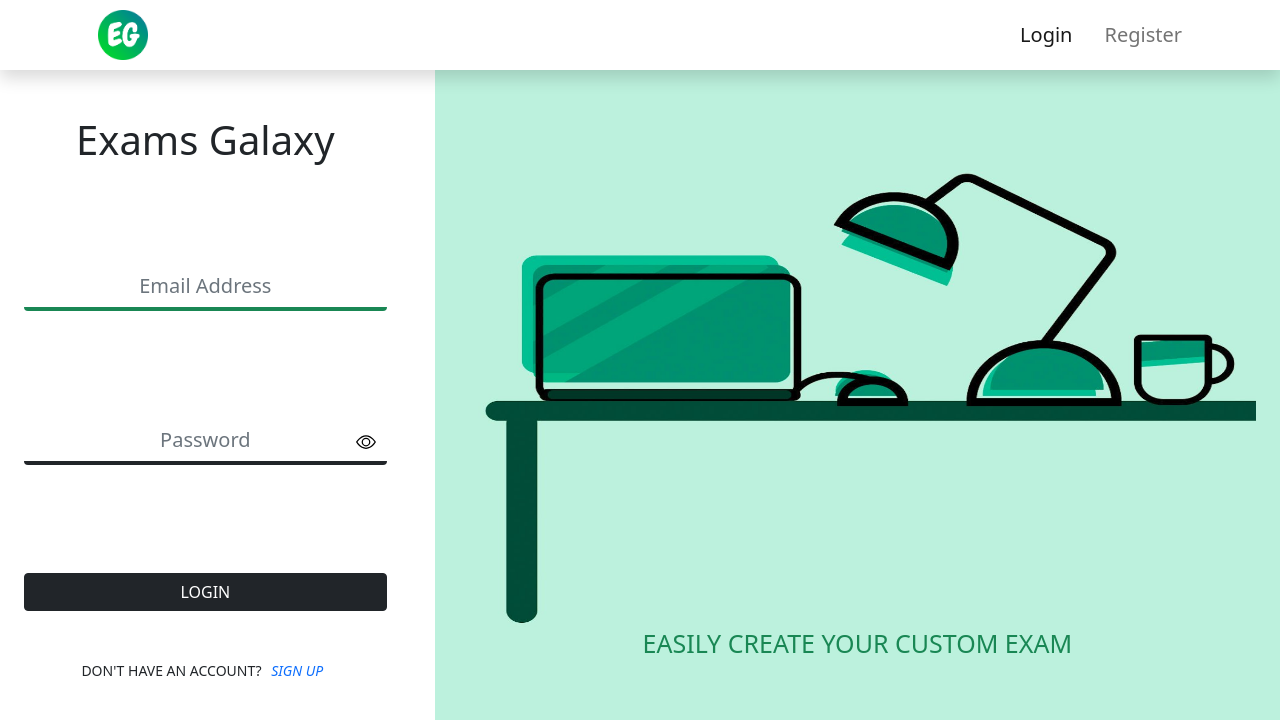
Test: authenticated user can click logout and logout from his account
Step 1. Click the link "Login" → (1046, 34), box 1020,21 -> 1072,48
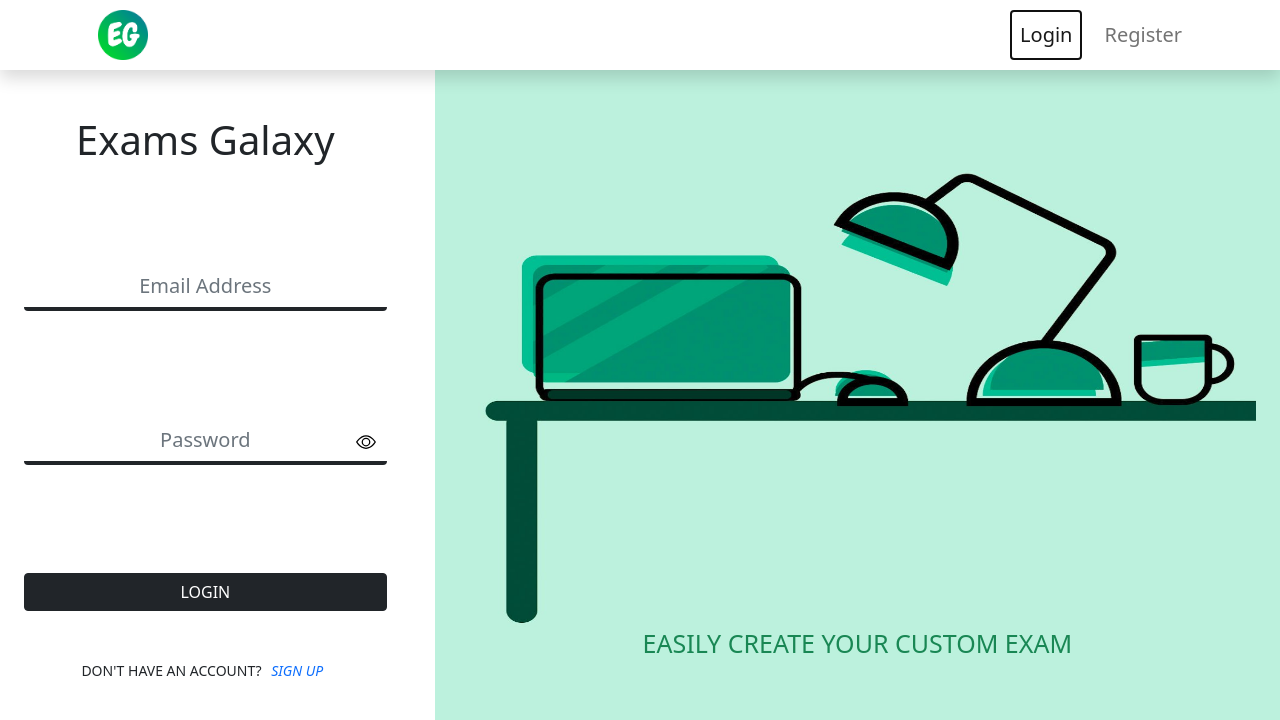
Step 2. Type "fkub@example.org" into the field labelled "Email Address" → (205, 288), box 24,265 -> 387,311
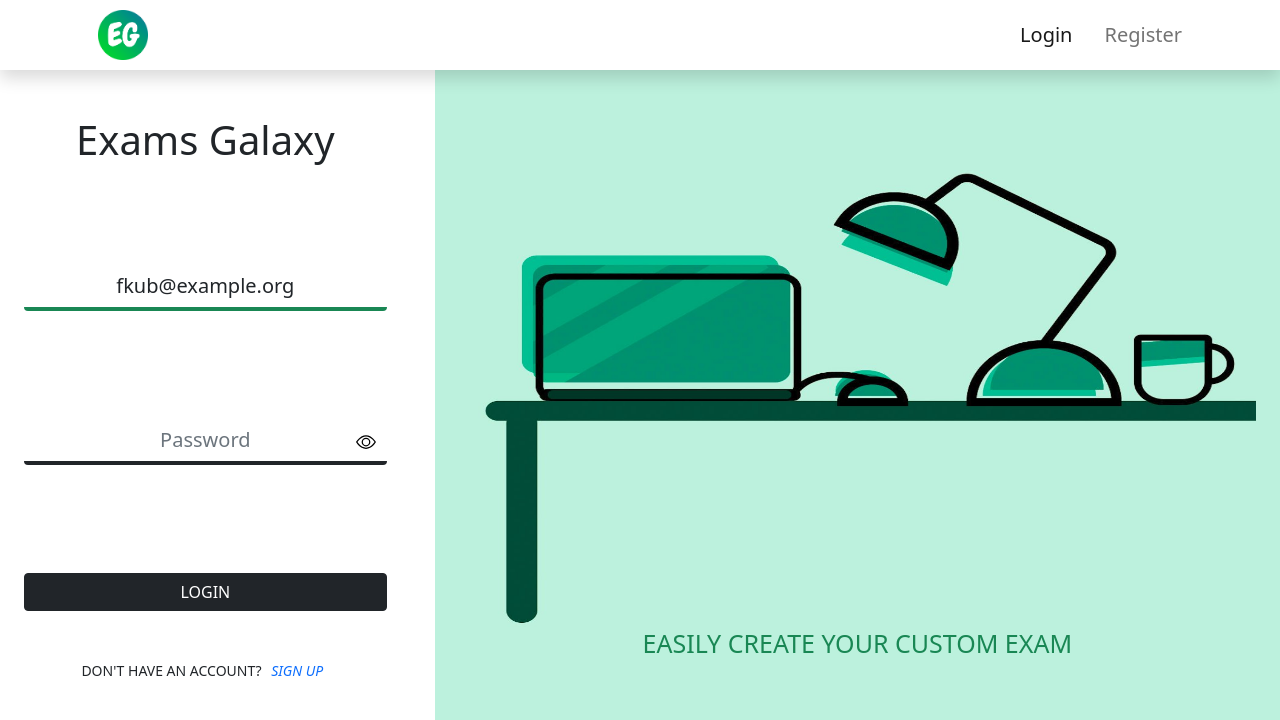
Step 3. Type "1stStrongestPassword" into the password field labelled "Password" → (205, 442), box 24,419 -> 387,465
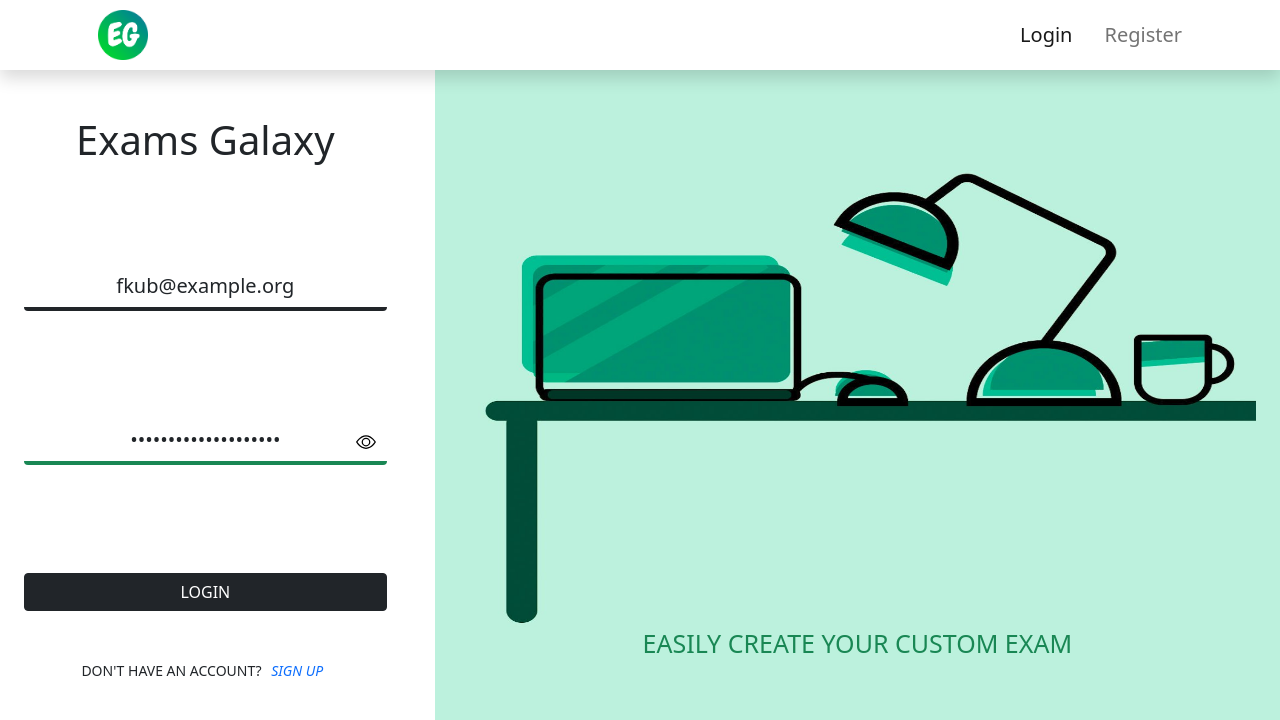
Step 4. Click the button "LOGIN" → (205, 592), box 24,573 -> 387,611
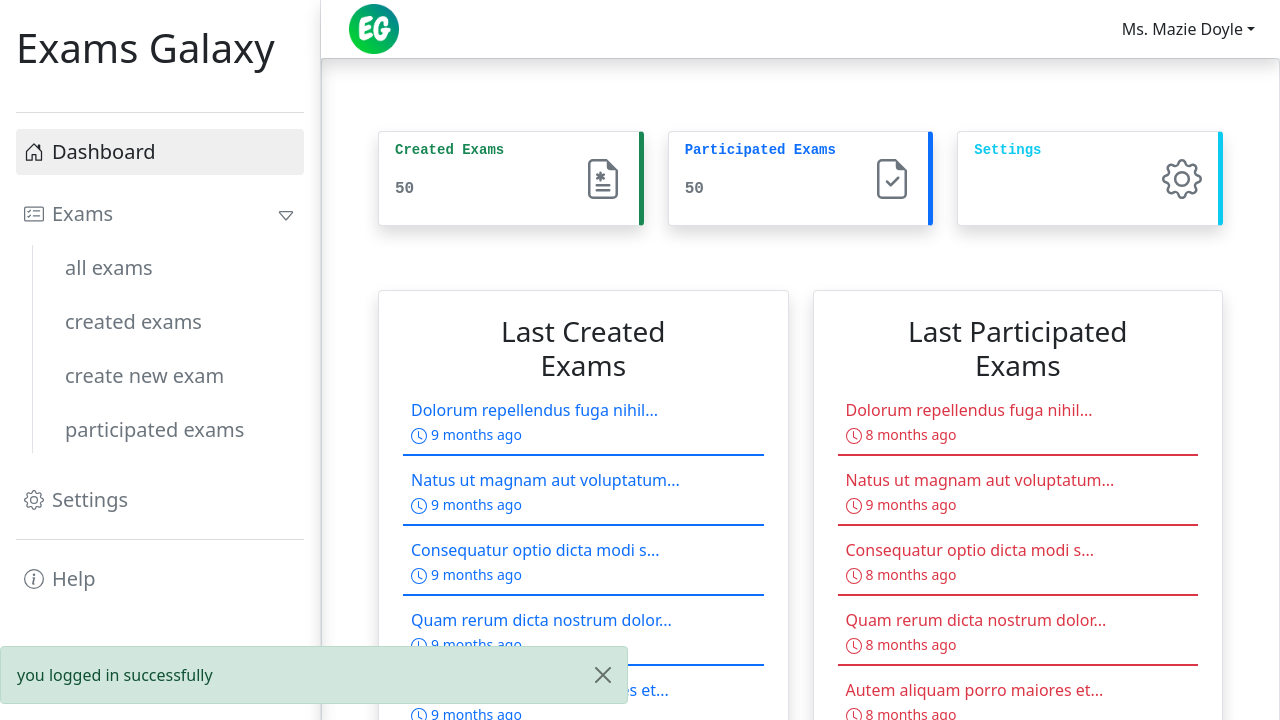
Note: click button
Step 5. Click the button "Ms. Mazie Doyle" → (1188, 29), box 1109,10 -> 1268,48
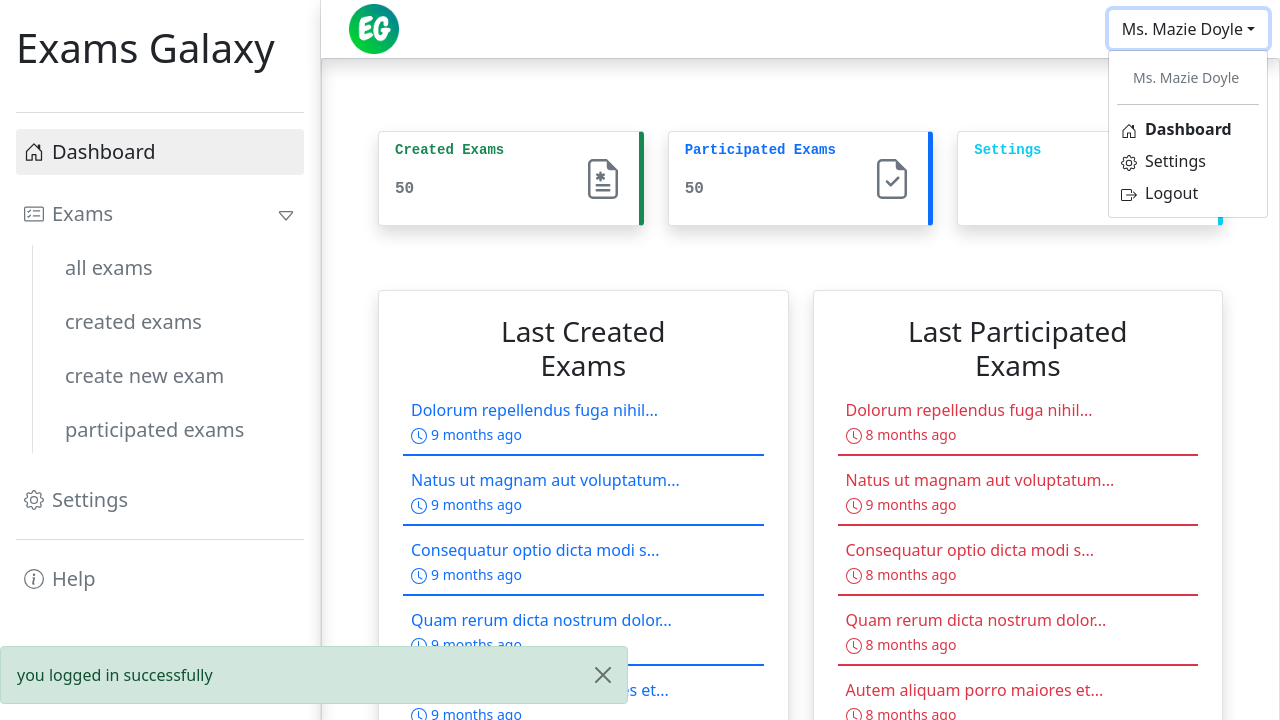
Step 6. Click the button "Logout" → (1160, 193), box 1121,182 -> 1198,204
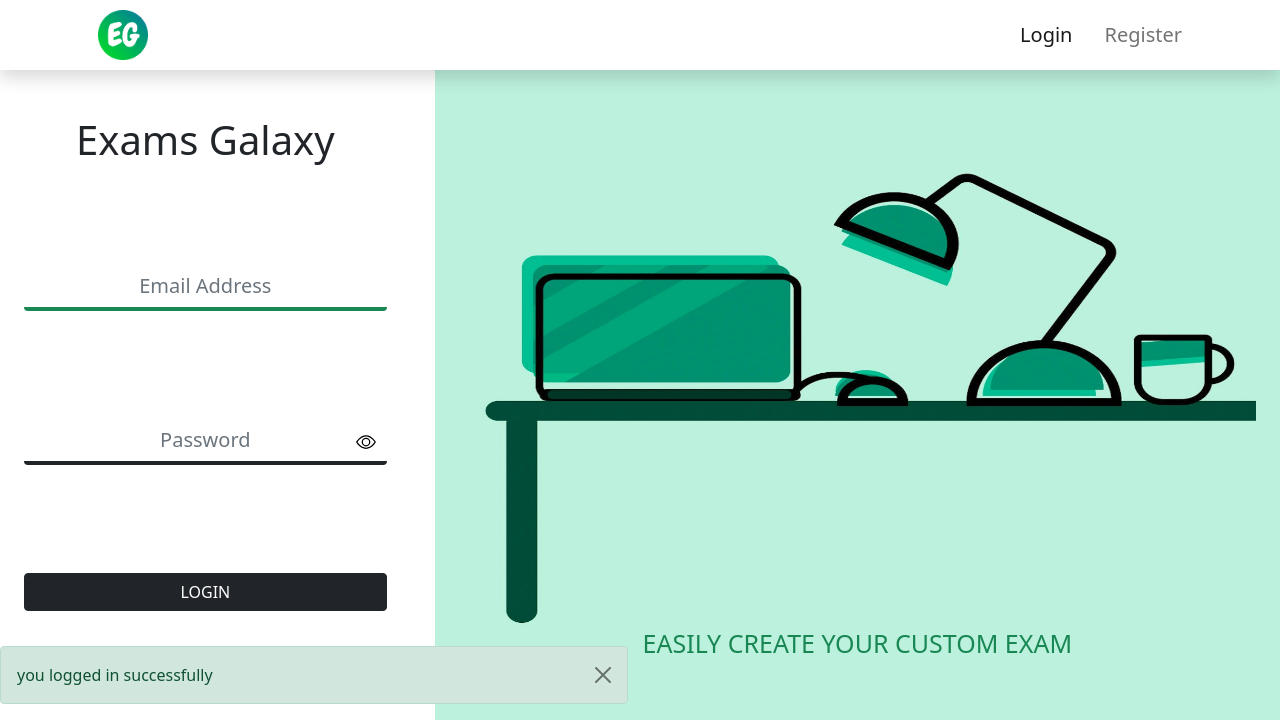
Now the link "Login" is shown, box 1020,21 -> 1072,48
Now the link "Register" is shown, box 1104,21 -> 1182,48
